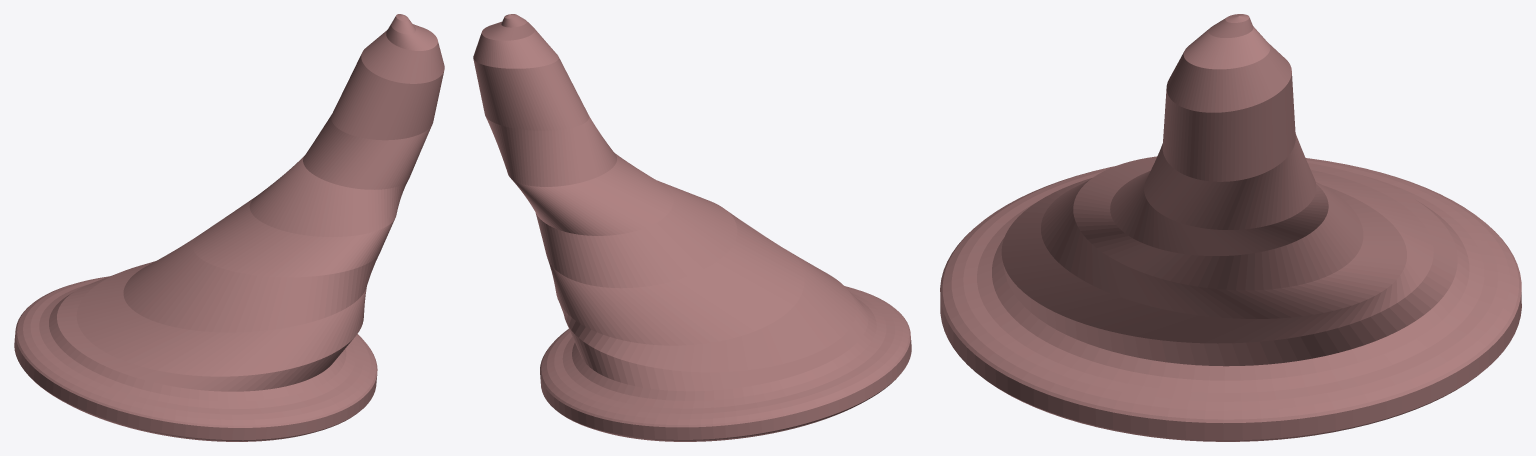
File: Condom_Used.fbx
3 views of the same model, side by side, from view 1: azimuth 30°, elevation 25°; view 2: azimuth 150°, elevation 25°; view 3: azimuth 270°, elevation 25° (orthographic). The views are drawn at different scales.
Parts seen in each view (by area): view 1: Condom_Used; view 2: Condom_Used; view 3: Condom_Used.
Part boxes in pixels (left/top/right/bottom): Condom_Used: left=14, top=14, right=444, bottom=441; Condom_Used: left=473, top=14, right=911, bottom=441; Condom_Used: left=940, top=14, right=1521, bottom=441.
Size of the model in its own units: 2.72 by 2.07 by 2.29.
